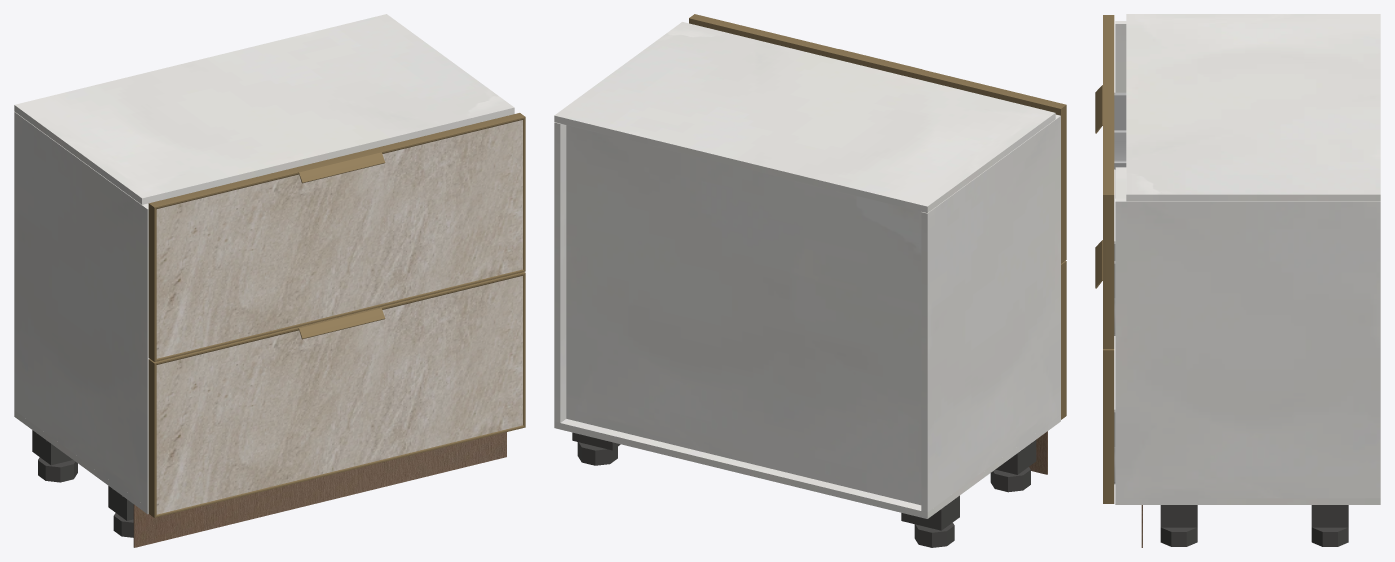
Rendered from BC-DW-TTS-ST-XXX-2HB-XXX-900-720-560-15.glb.
The picture shows the model from 3 angles, left to right: view 1: azimuth 30°, elevation 25°; view 2: azimuth 150°, elevation 25°; view 3: azimuth 270°, elevation 25°; orthographic projection.
Parts seen in each view (by area): view 1: Object_node_68, Object_node_70, TP_node_1, TP_node, Object_node_72, ExtrSplGeo_node, Extrusion_node_4, Extrusion_node_11, Extrusion_node_10, Extrusion_node_3, Extrusion_node_8, Extrusion_node_7 (+5 smaller); view 2: TP_node_6, TP_node_1, TP_node, TP, TP_node_0, Extrusion_node_7, Extrusion_node_8, ExtrSplGeo_node, Extrusion_node_11, Extrusion_node_4, Plate, Foot (+3 smaller); view 3: TP_node_0, TP_node_1, TP, Extrusion_node_2, Extrusion_node_9, TP_node, Plate_node, Plate_node_1, Extrusion_node_7, Extrusion_node_8, ExtrSplGeo_node, Foot_node_1 (+4 smaller).
Part boxes in pixels (x1,y1,x2,y2): Object_node_68: (156,276,522,514); Object_node_70: (156,120,522,358); TP_node_1: (14,14,514,204); TP_node: (14,111,149,507); Object_node_72: (133,432,506,547); ExtrSplGeo_node: (293,148,385,183); Extrusion_node_4: (148,359,156,517); Extrusion_node_11: (148,203,156,361); Extrusion_node_10: (155,269,525,361); Extrusion_node_3: (155,425,525,517); Extrusion_node_8: (149,168,298,209); Extrusion_node_7: (376,113,525,153); TP_node_6: (566,125,921,505); TP_node_1: (554,22,1055,212); TP_node: (921,114,1060,512); TP: (554,415,1060,518); TP_node_0: (554,122,566,422); Extrusion_node_7: (689,14,838,58); Extrusion_node_8: (916,69,1066,112); ExtrSplGeo_node: (833,49,922,78); Extrusion_node_11: (1055,105,1066,263); Extrusion_node_4: (1061,261,1066,419); Plate: (901,496,959,530); Foot: (914,522,954,547); TP_node_0: (1115,198,1380,498); TP_node_1: (1126,14,1380,201); TP: (1115,498,1380,504); Extrusion_node_2: (1103,350,1114,503); Extrusion_node_9: (1103,195,1114,348); TP_node: (1115,21,1126,198); Plate_node: (1311,505,1348,527); Plate_node_1: (1160,505,1197,527); Extrusion_node_7: (1103,125,1114,194); Extrusion_node_8: (1103,15,1114,84); ExtrSplGeo_node: (1095,85,1114,133); Foot_node_1: (1160,527,1197,546).
Size of what is drawn, in the model's own units: 0.9 by 0.82 by 0.6.
7 materials, 3 textured.
